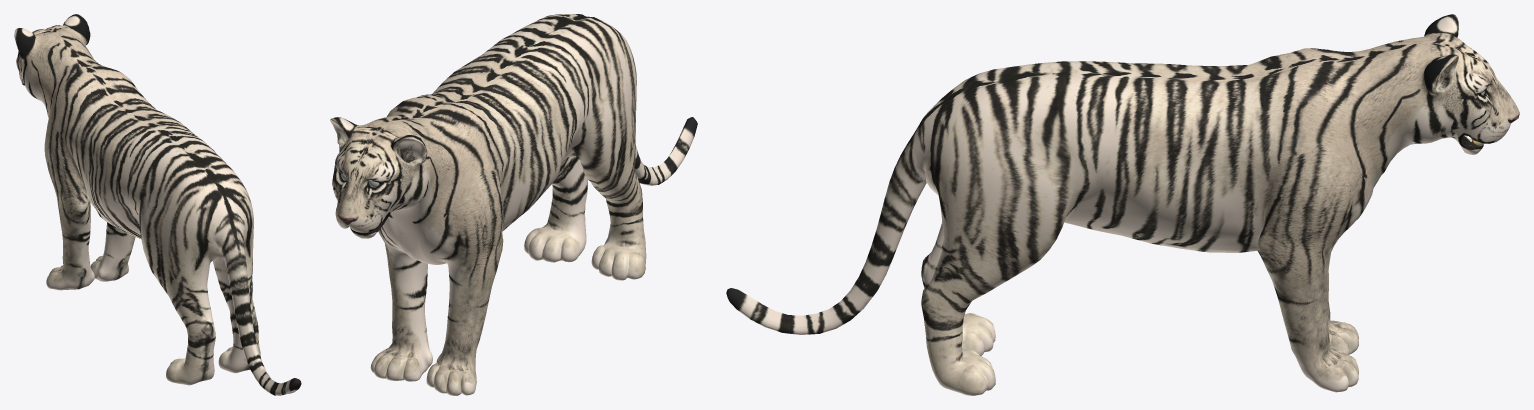
File: White_tiger3_combined2.fbx
3 views of the same model, side by side, from view 1: azimuth 30°, elevation 25°; view 2: azimuth 150°, elevation 25°; view 3: azimuth 270°, elevation 25° (orthographic). The views are drawn at different scales.
Visible parts, largest first — view 1: Polygonal_Geometry; view 2: Polygonal_Geometry; view 3: Polygonal_Geometry.
Boxes of the visible parts, left/top/right/bottom form: Polygonal_Geometry: left=14, top=14, right=301, bottom=395; Polygonal_Geometry: left=330, top=14, right=697, bottom=395; Polygonal_Geometry: left=726, top=14, right=1519, bottom=395.
Bounding box in the file's own units: 0.619 × 1.46 × 3.18.
